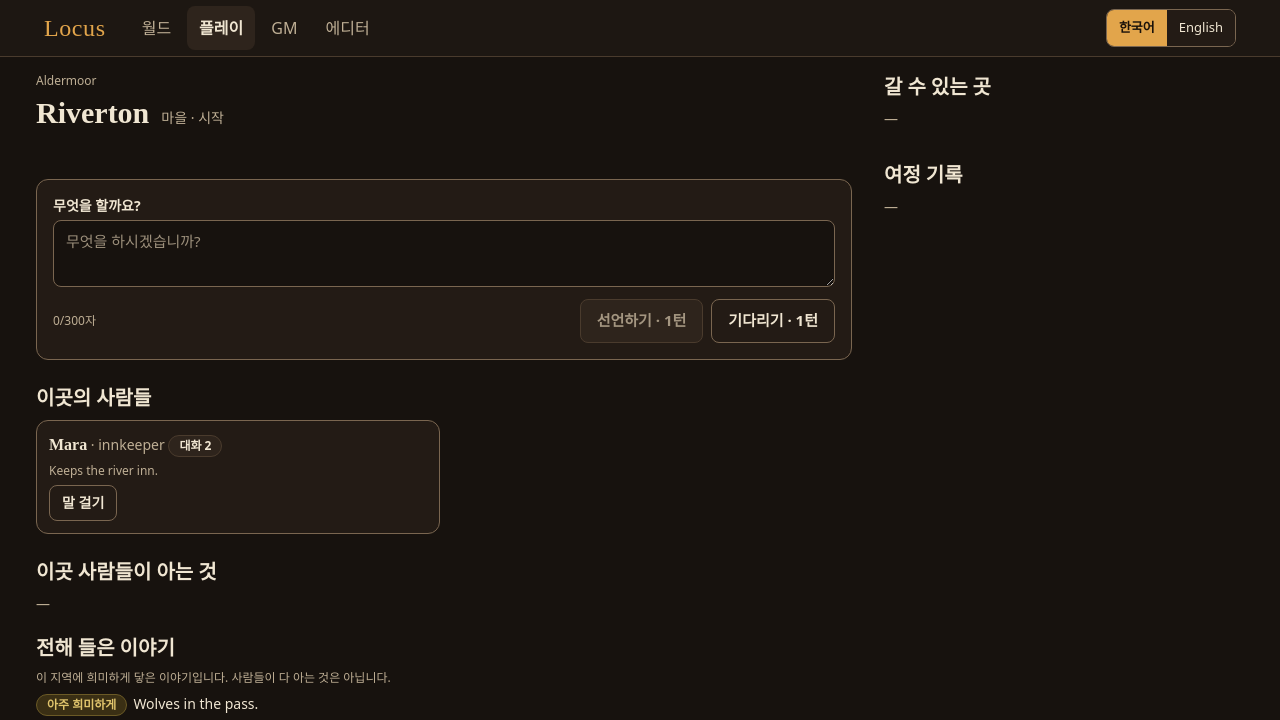
it: PlayPage with dialogue and the language toggle › moving away closes the panel and coming back does not reopen it (review U5 #8)
Click the button with test id "npc-n1-talk-btn" at (83, 503), box [49,485,117,521]
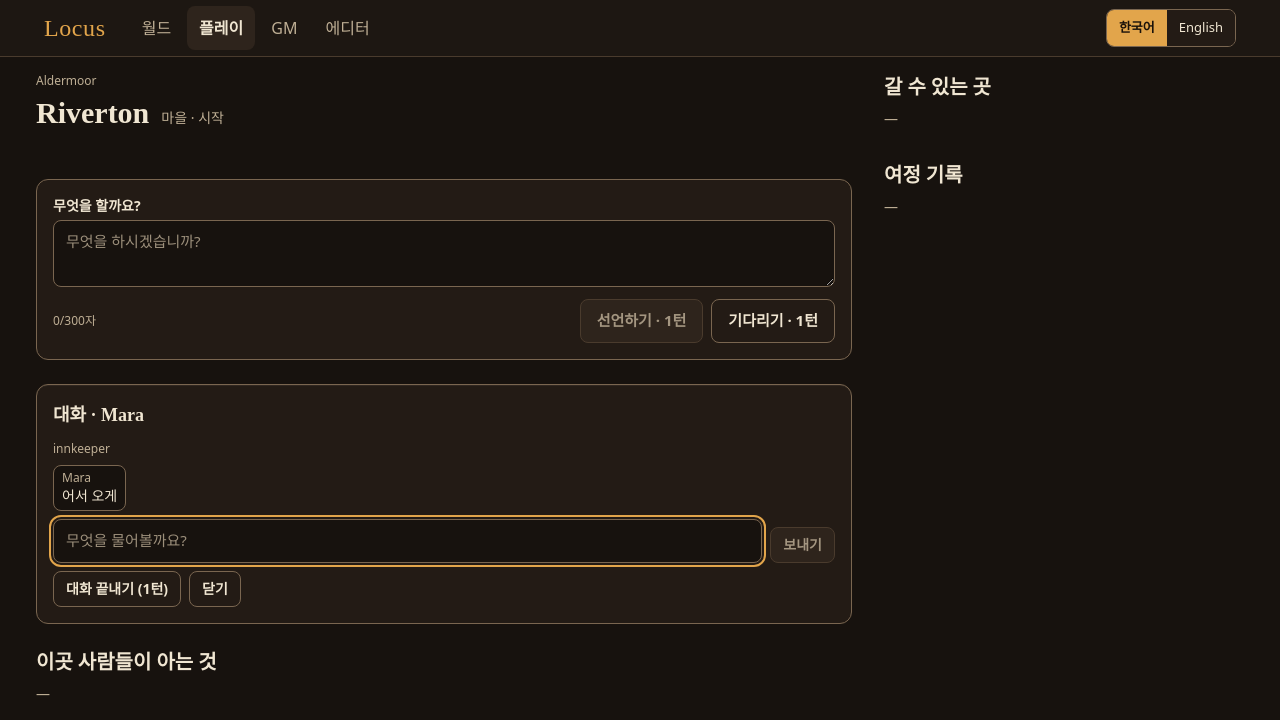
Now the element with test id "dialogue-panel" is shown, box [36,384,852,624]
Click the button with test id "wait-btn" at (773, 321), box [711,299,835,343]
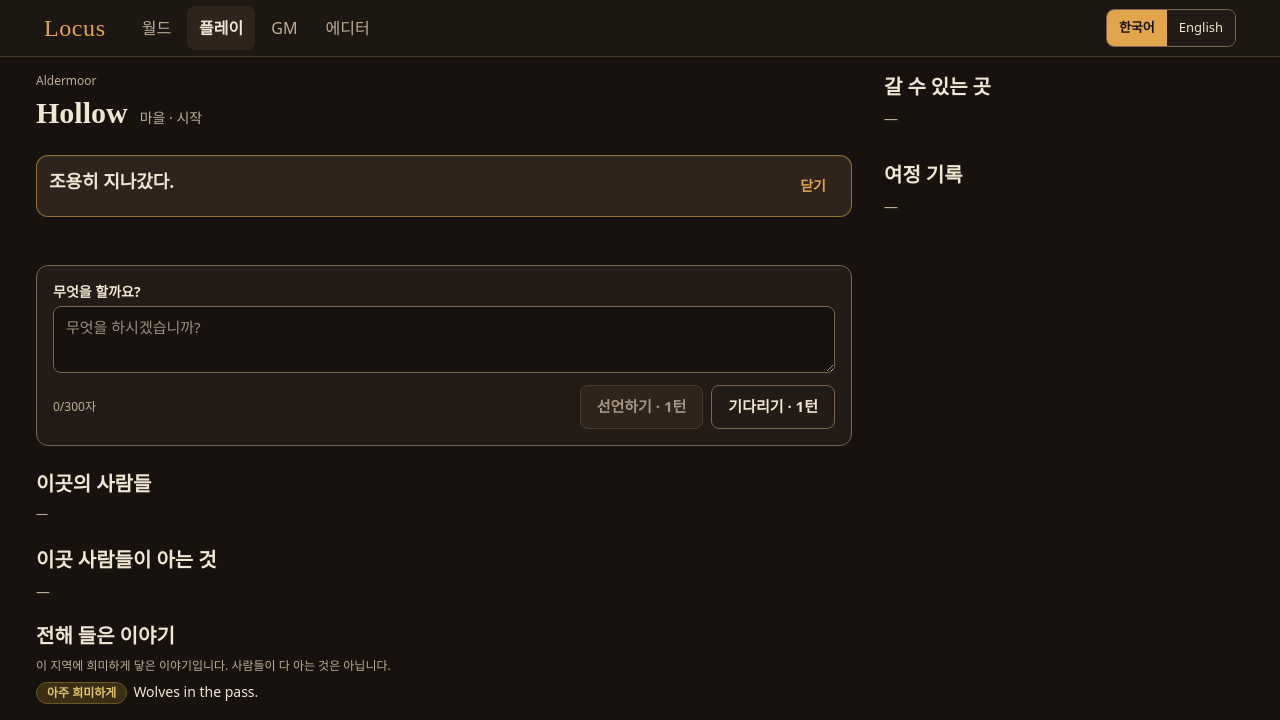
Now the heading with test id "region-title" reads "Hollow", box [36,96,128,129]
Click the button with test id "wait-btn" at (773, 407), box [711,385,835,429]
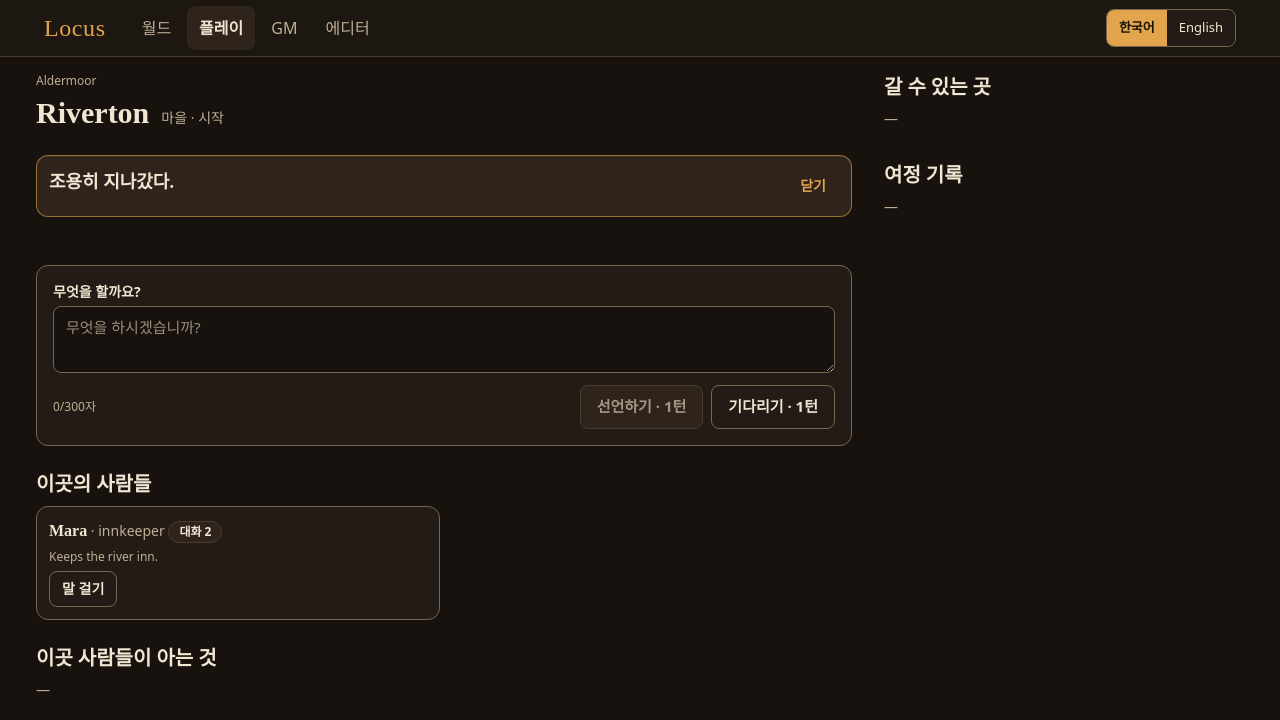
Now the heading with test id "region-title" reads "Riverton", box [36,96,149,129]
